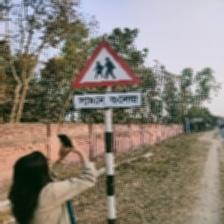College-in-front: (63, 39, 141, 119)
